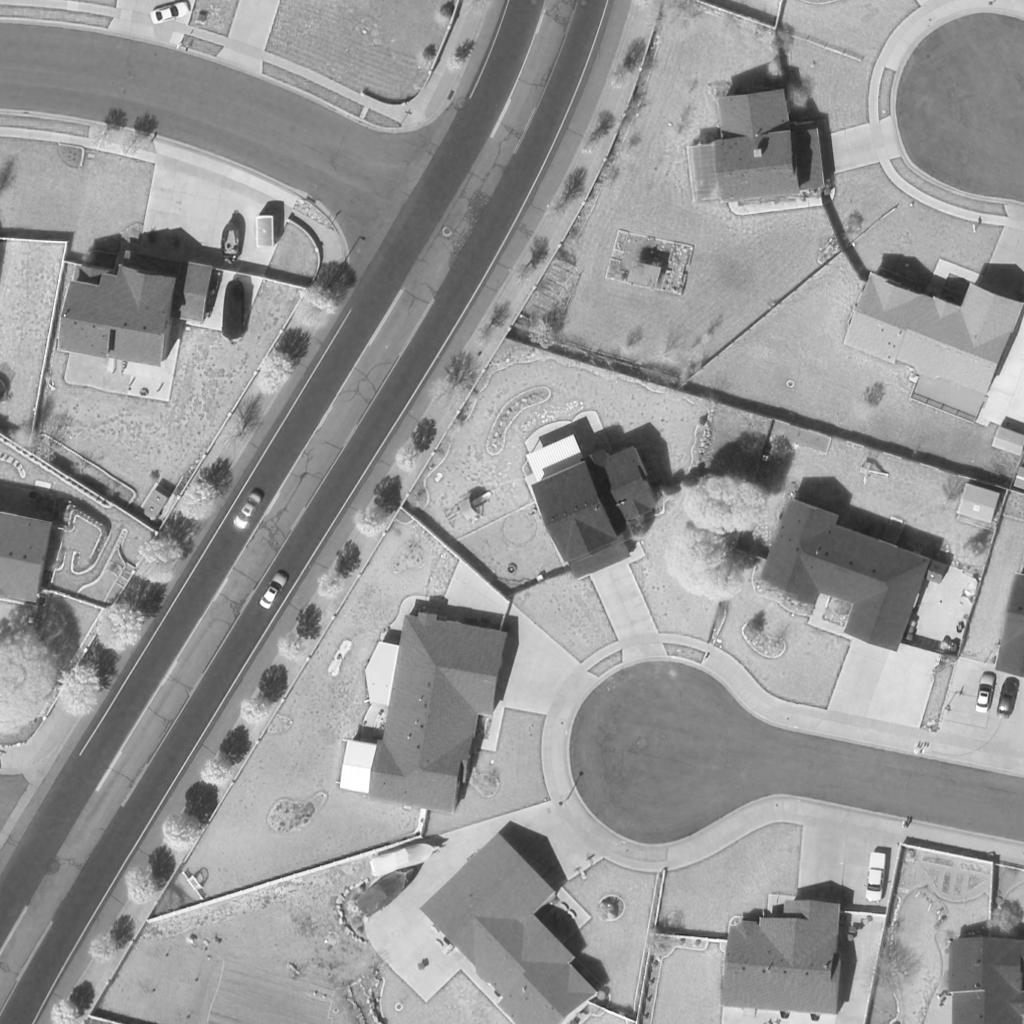vehicle: (370, 838, 442, 876), (353, 870, 411, 916), (221, 282, 245, 342), (232, 494, 264, 532), (257, 572, 289, 610), (993, 677, 1021, 719), (865, 852, 887, 904), (973, 672, 997, 714), (151, 3, 189, 25), (220, 222, 242, 260), (256, 216, 274, 250)
